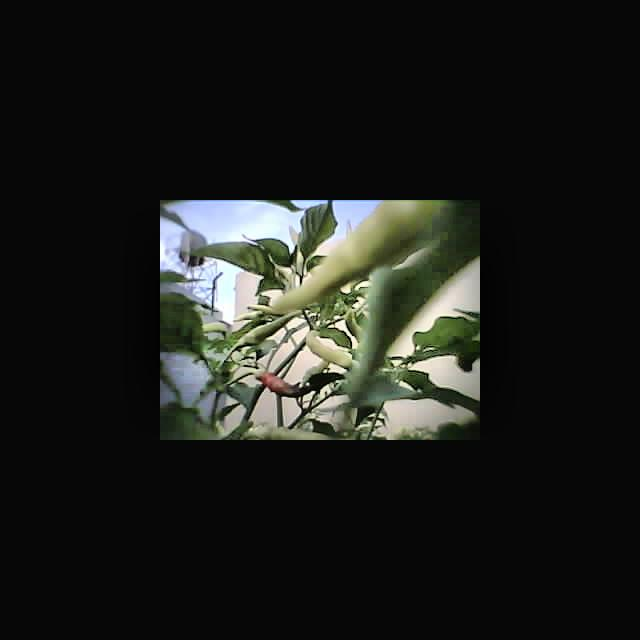Cabai: (251, 363, 315, 409)
